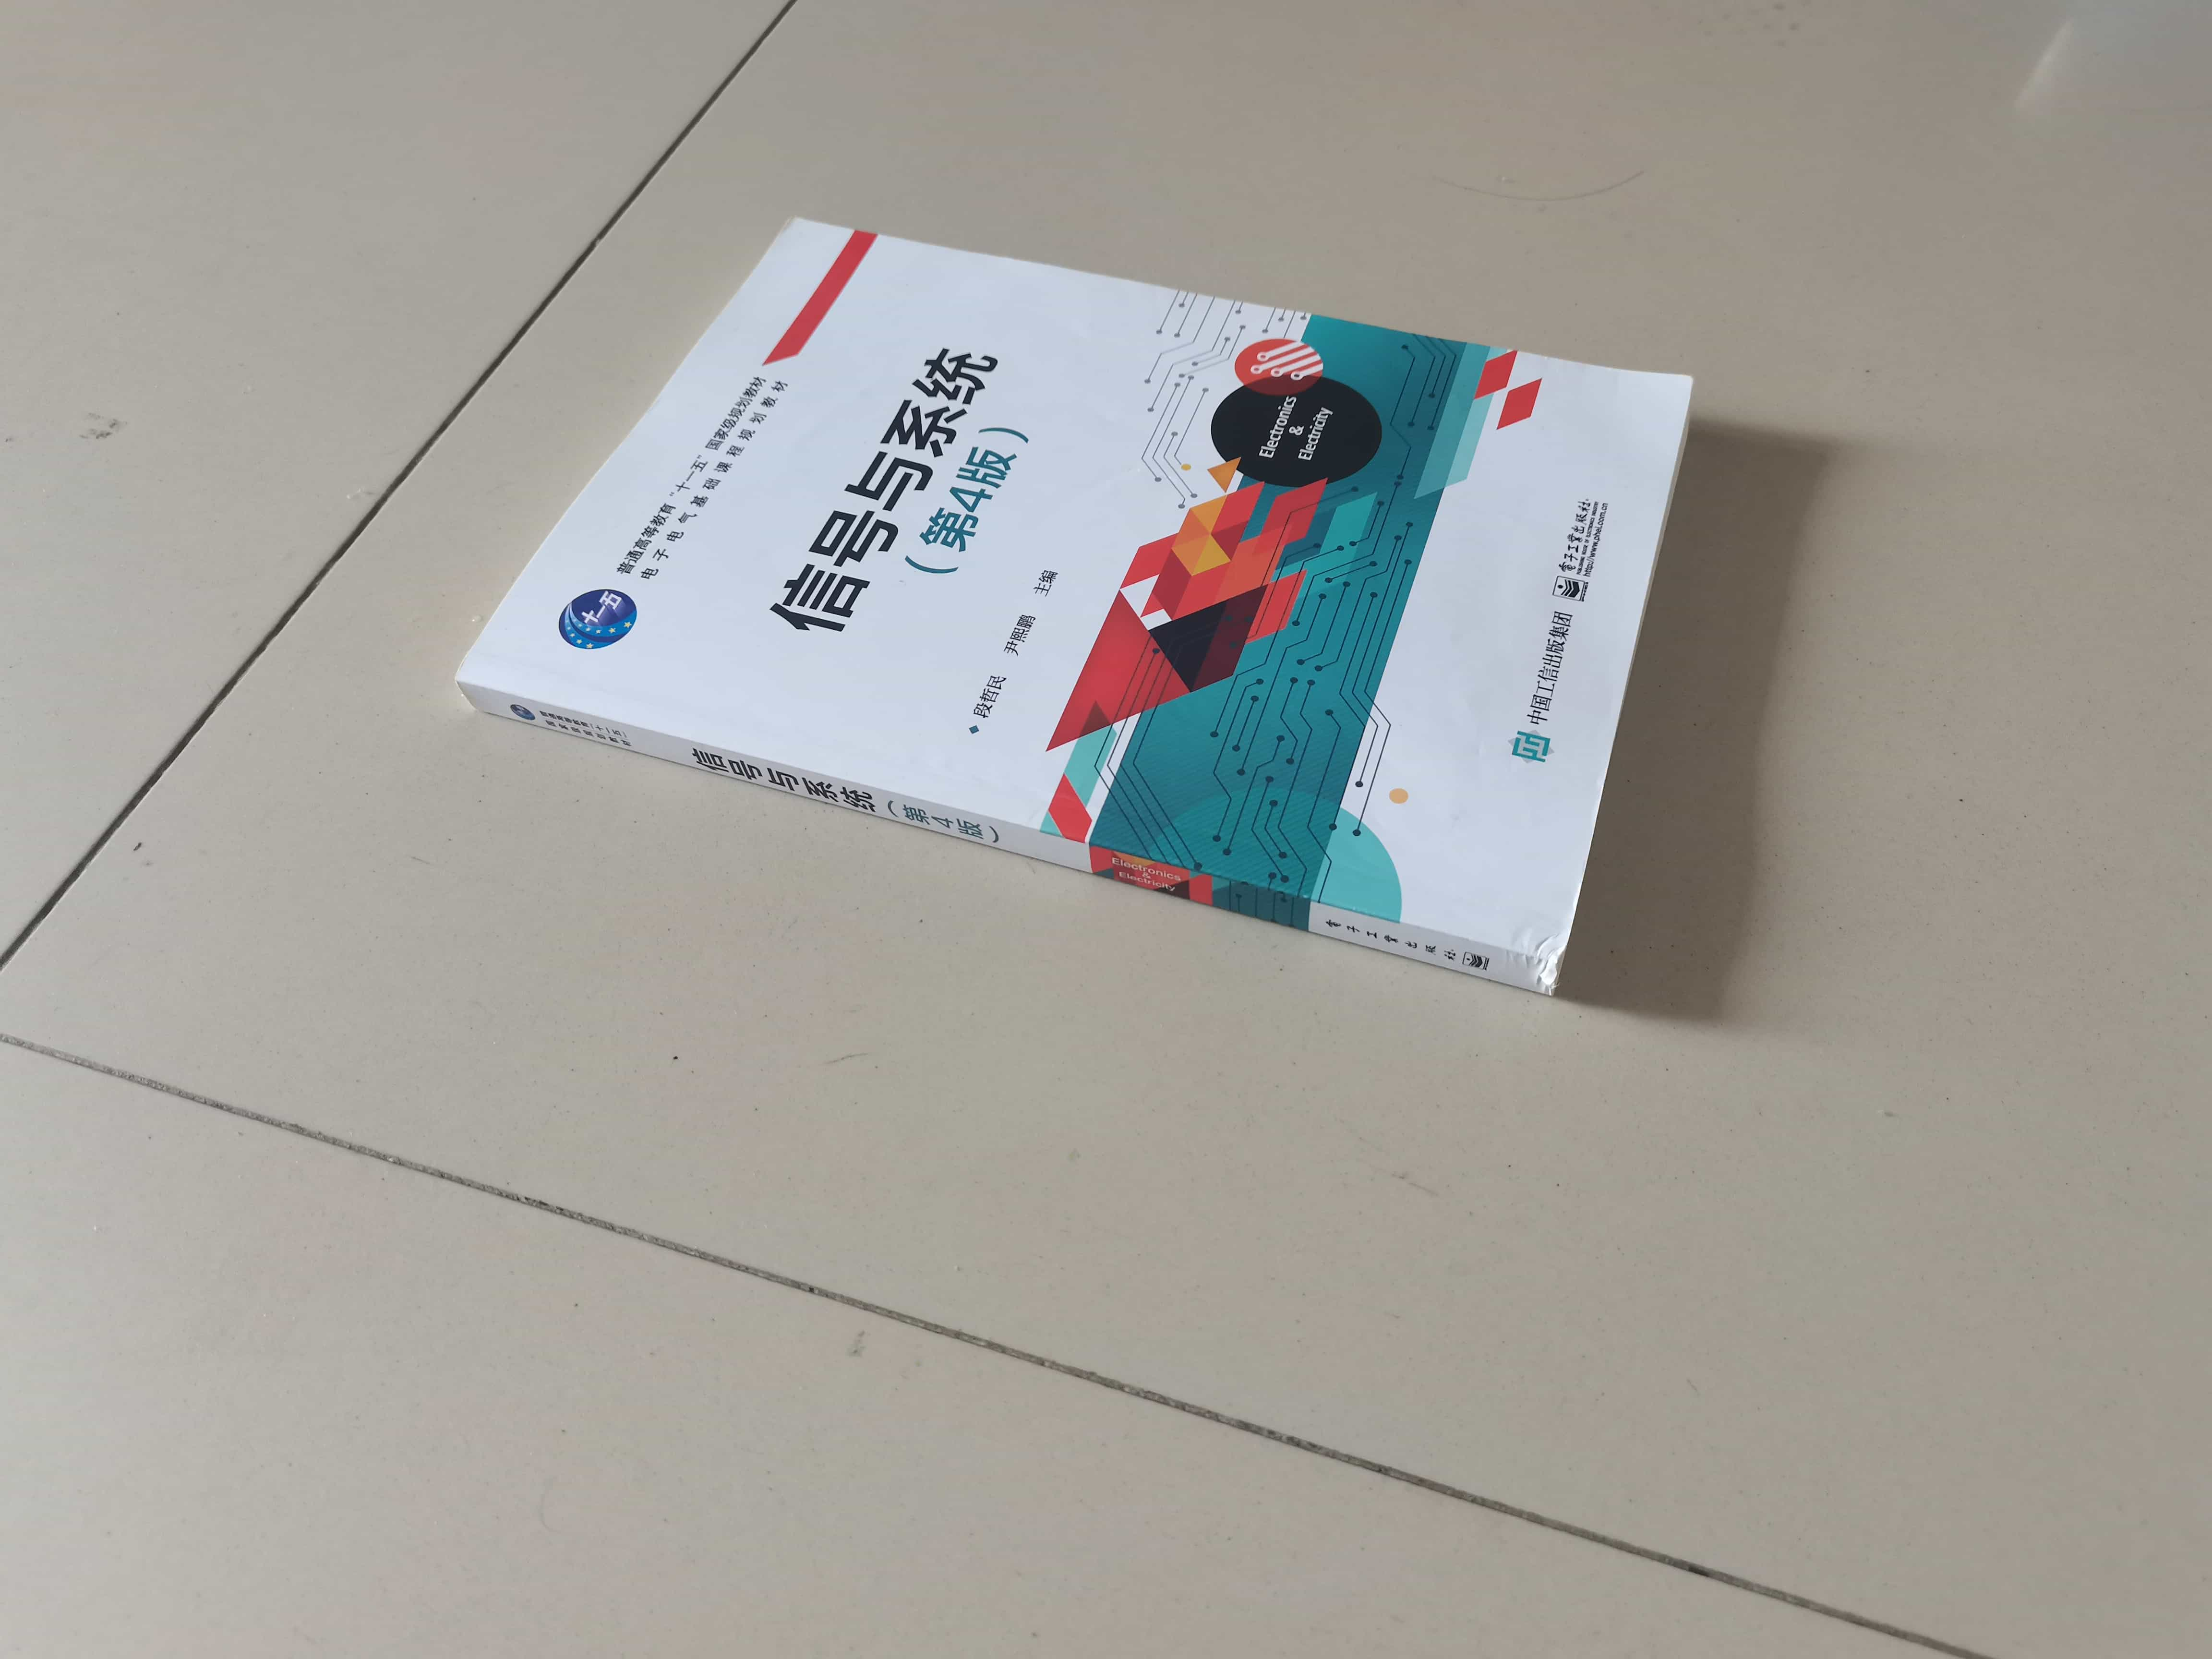book: (437, 197, 1723, 1025)
